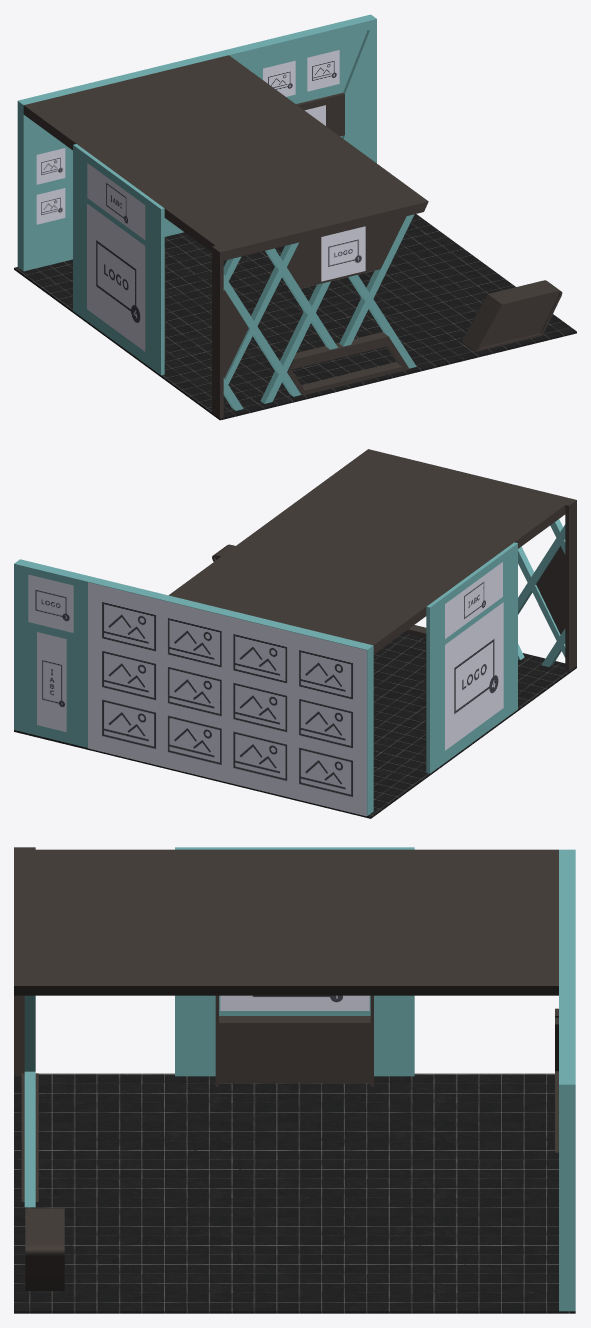
Rendered from stant75.gltf.
3 renders of one model, top to bottom at view 1: azimuth 30°, elevation 25°; view 2: azimuth 150°, elevation 25°; view 3: azimuth 270°, elevation 25°, orthographic. The views are drawn at different scales.
Parts seen in each view (by area): view 1: modrenk2, modkaro, modrenk1, modlogo4, modyazi2, modlogo1, modgorsel9, modgorsel4, modgorsel1, modgorsel8; view 2: modgenisgorsel, modrenk2, modrenk1, modkaro, modlogo4, moddikyazi1, modlogo3, modyazi2; view 3: modkaro, modrenk2, modrenk1, modvideo1.
Boxes of the visible parts, left/top/right/bottom form: modrenk2: left=23, top=55, right=562, bottom=418; modkaro: left=14, top=214, right=576, bottom=420; modrenk1: left=17, top=14, right=416, bottom=410; modlogo4: left=87, top=203, right=145, bottom=351; modyazi2: left=87, top=163, right=145, bottom=239; modlogo1: left=321, top=226, right=365, bottom=281; modgorsel9: left=307, top=50, right=339, bottom=91; modgorsel4: left=36, top=188, right=65, bottom=224; modgorsel1: left=36, top=148, right=65, bottom=184; modgorsel8: left=263, top=60, right=295, bottom=96; modgenisgorsel: left=88, top=582, right=366, bottom=816; modrenk2: left=169, top=449, right=576, bottom=757; modrenk1: left=14, top=519, right=565, bottom=815; modkaro: left=14, top=633, right=576, bottom=818; modlogo4: left=445, top=602, right=503, bottom=750; moddikyazi1: left=37, top=632, right=66, bottom=732; modlogo3: left=28, top=574, right=73, bottom=632; modyazi2: left=445, top=562, right=502, bottom=638; modkaro: left=14, top=1073, right=575, bottom=1313; modrenk2: left=14, top=847, right=558, bottom=1290; modrenk1: left=24, top=847, right=575, bottom=1311; modvideo1: left=220, top=995, right=369, bottom=1010.
Size of what is drawn, in the model's own units: 1 by 0.45 by 1.
22 materials, 20 textured.
